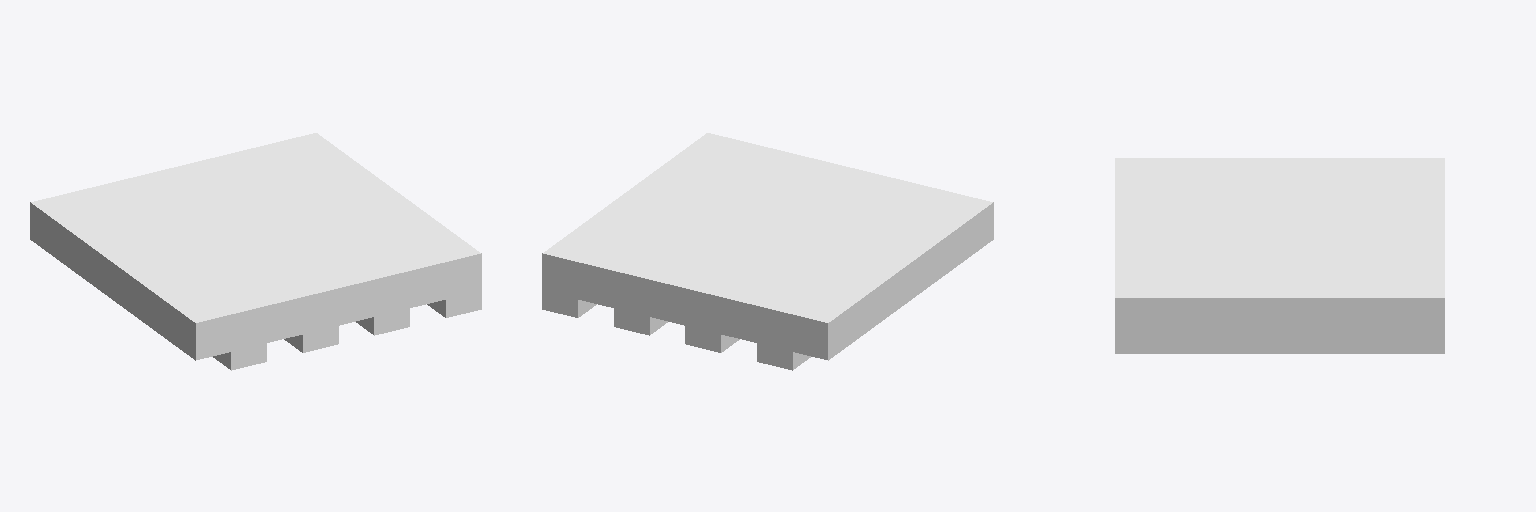
File: CeilingBitsCenter.obj
3 views of the same model, side by side, from view 1: azimuth 30°, elevation 25°; view 2: azimuth 150°, elevation 25°; view 3: azimuth 270°, elevation 25° (orthographic).
Parts seen in each view (by area): view 1: object 1; view 2: object 1; view 3: object 1.
Boxes of the visible parts, x1,y1,x2,y2 form: object 1: [30, 133, 481, 370]; object 1: [542, 133, 993, 370]; object 1: [1115, 158, 1444, 353].
Size of the model in its own units: 1.6 by 0.3 by 1.6.